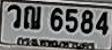letters: (23, 5, 42, 32), (6, 3, 22, 30), (80, 8, 95, 35), (65, 7, 79, 35), (49, 7, 64, 33), (95, 10, 110, 36)
province: (16, 36, 96, 50)
